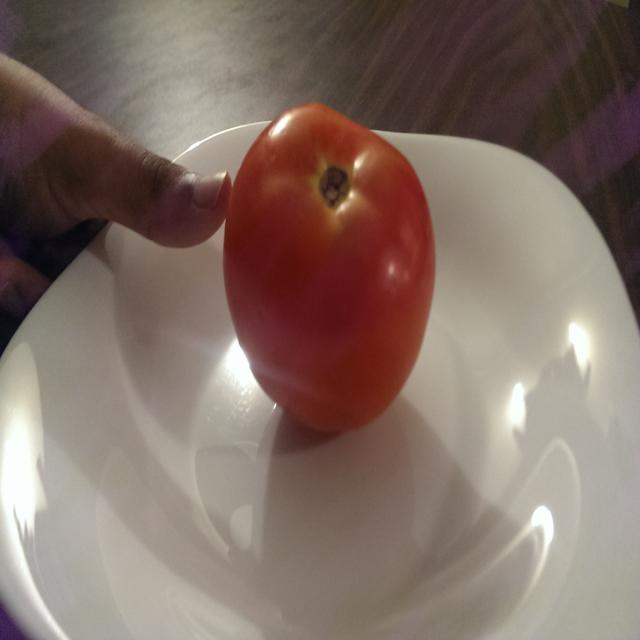tomato: (222, 100, 436, 436)
